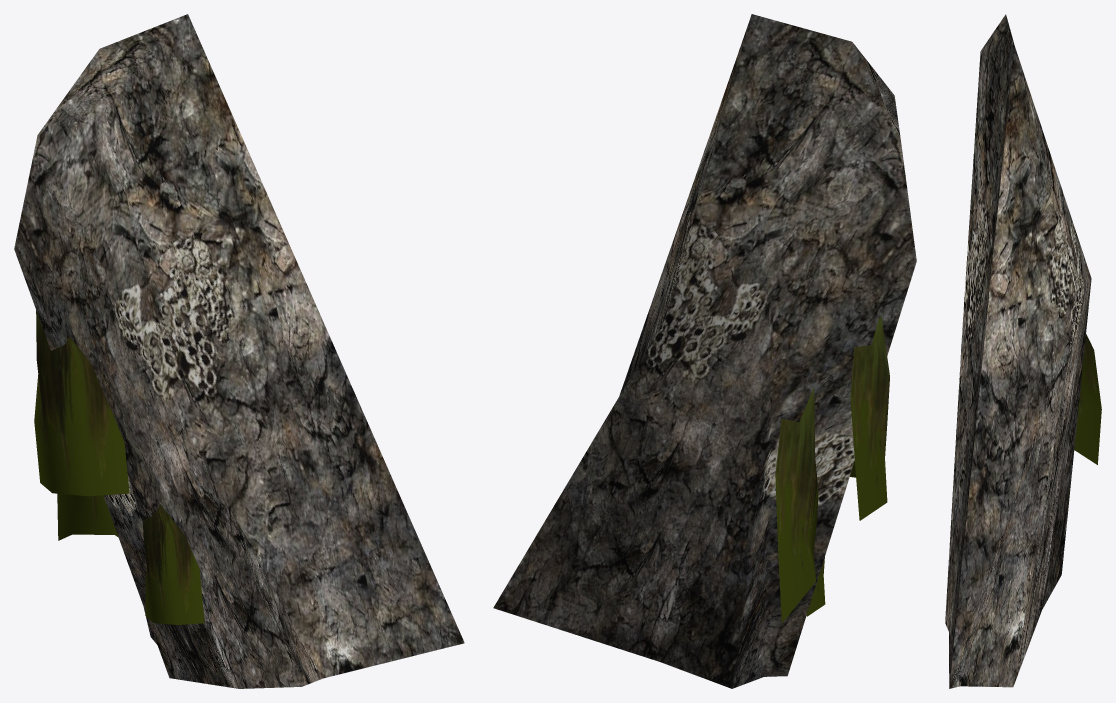
The model's file is pir_m_prp_dvj_rock_e.fbx.
3 views of the same model, side by side, from view 1: azimuth 30°, elevation 25°; view 2: azimuth 150°, elevation 25°; view 3: azimuth 270°, elevation 25° (orthographic). The views are drawn at different scales.
Visible parts, largest first — view 1: small_rock3, seaweed, seaweed2, seaweed1; view 2: small_rock3, seaweed1, seaweed; view 3: small_rock3, seaweed1.
Boxes of the visible parts, x1,y1,x2,y2 form: small_rock3: (14,14,464,688); seaweed: (34,310,129,496); seaweed2: (143,504,204,624); seaweed1: (57,493,118,540); small_rock3: (493,14,916,688); seaweed1: (775,387,818,622); seaweed: (850,316,889,520); small_rock3: (945,14,1091,688); seaweed1: (1074,334,1101,464).
Bounding box in the file's own units: 2454 × 3654 × 946.
2 materials, 2 textured.
